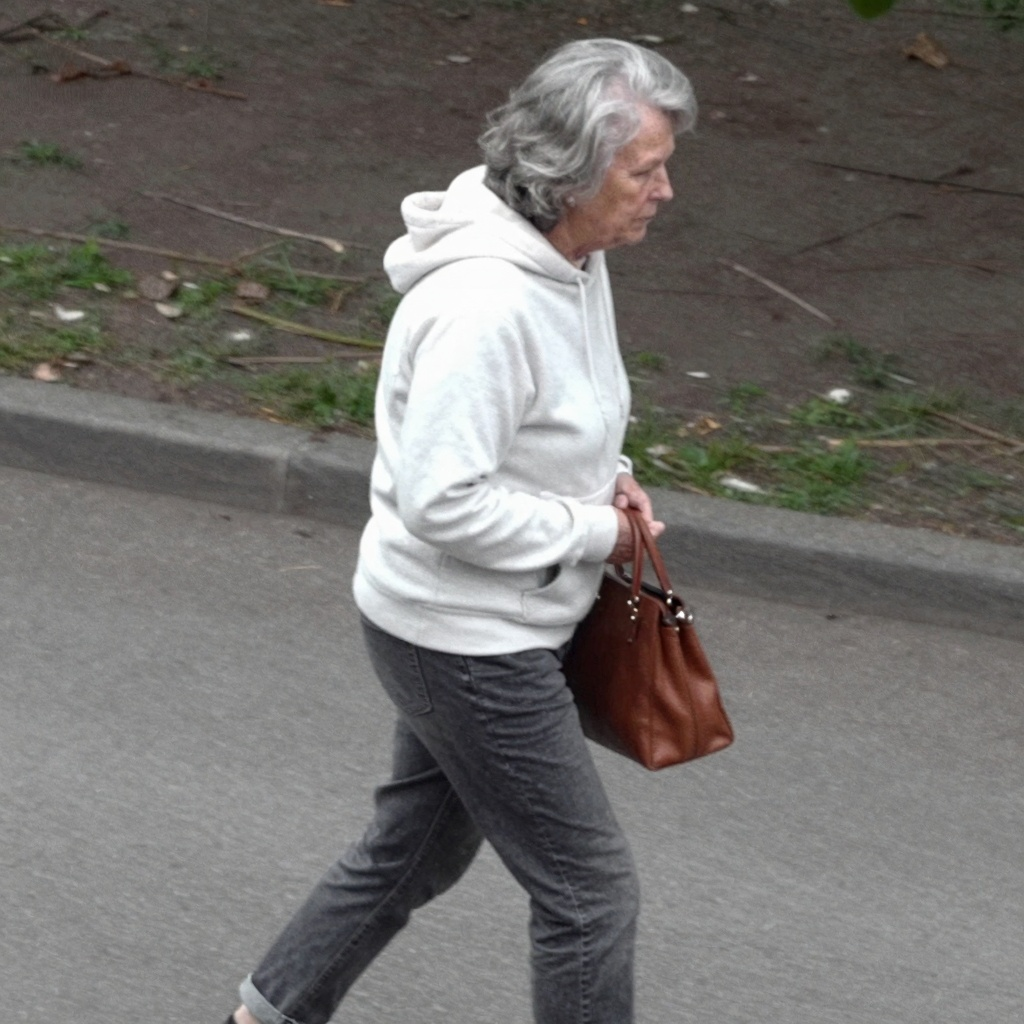Normal activity: (204, 40, 715, 1023)
